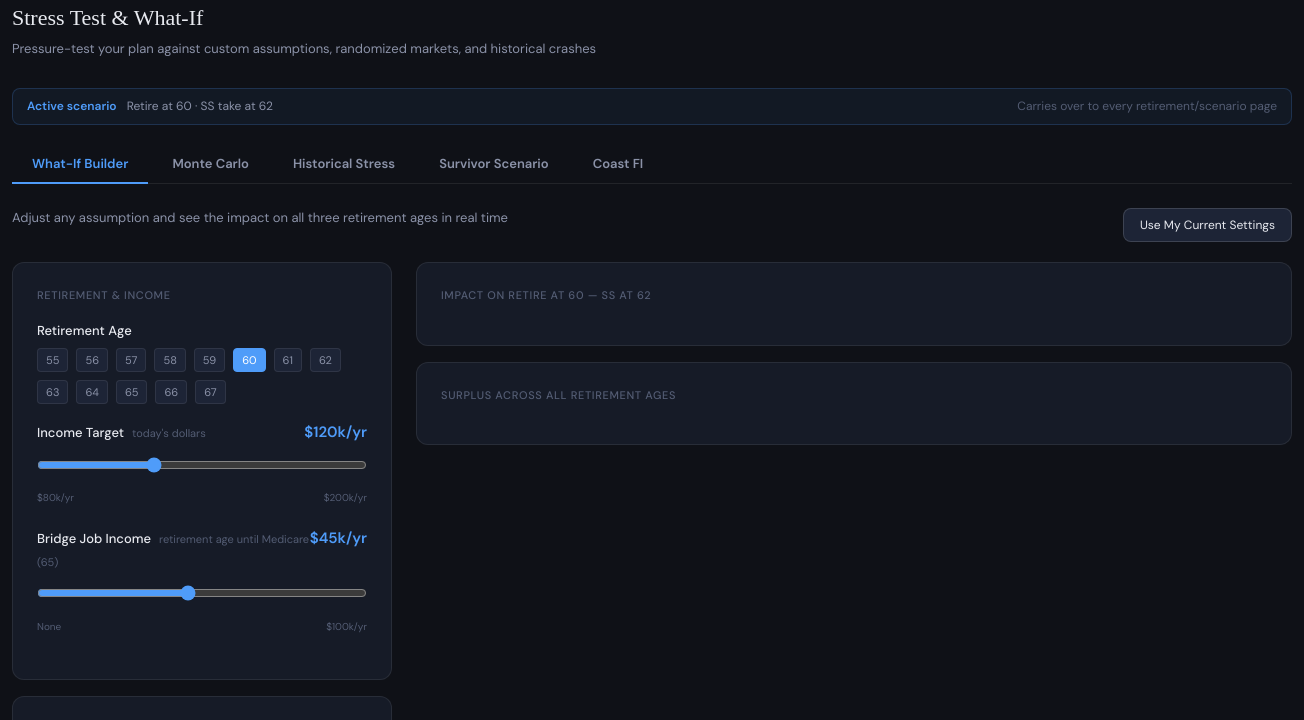
Two-Age Monte Carlo › toggling two-age mode replaces the retirement-age buttons with two age inputs, keeping SS visible
This screenshot has width=1304, height=720.
Click the button "Monte Carlo": (211, 165) [152,145,269,184]
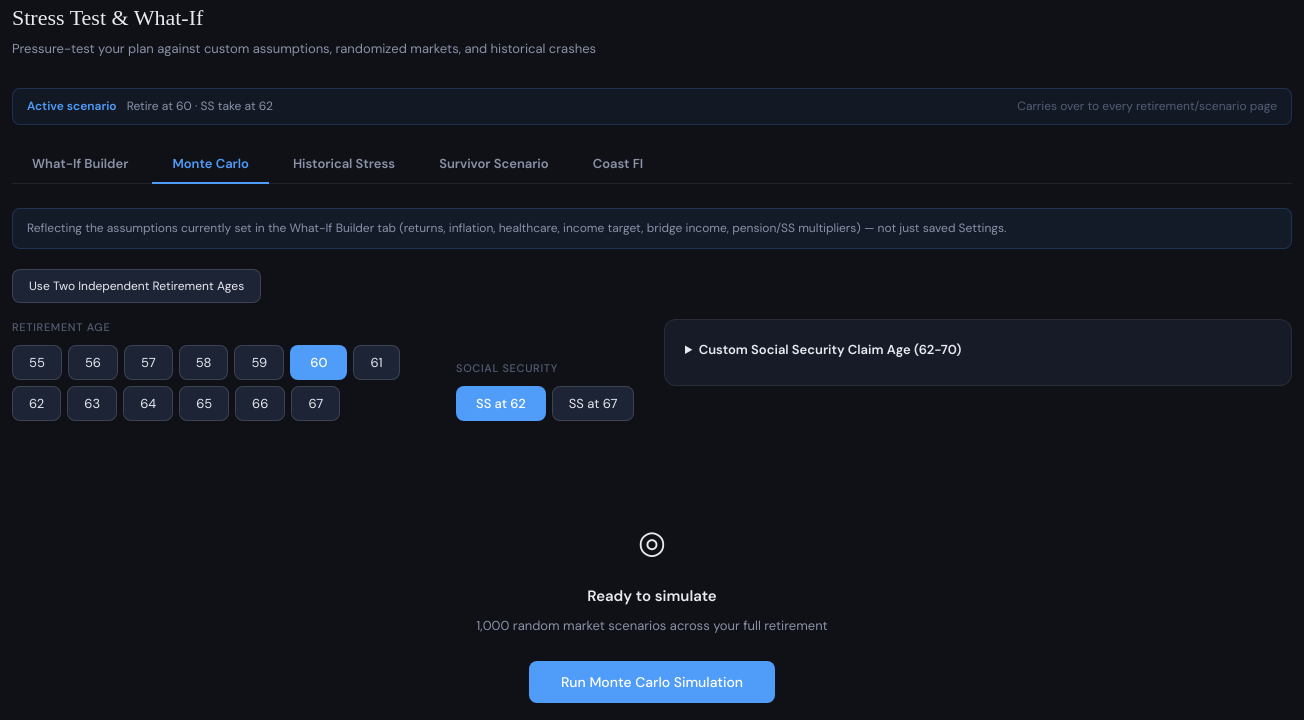
Expected: the button "Use Two Independent Retirement Ages" is shown
Click the button "Use Two Independent Retirement Ages": (137, 286) [12,269,261,303]
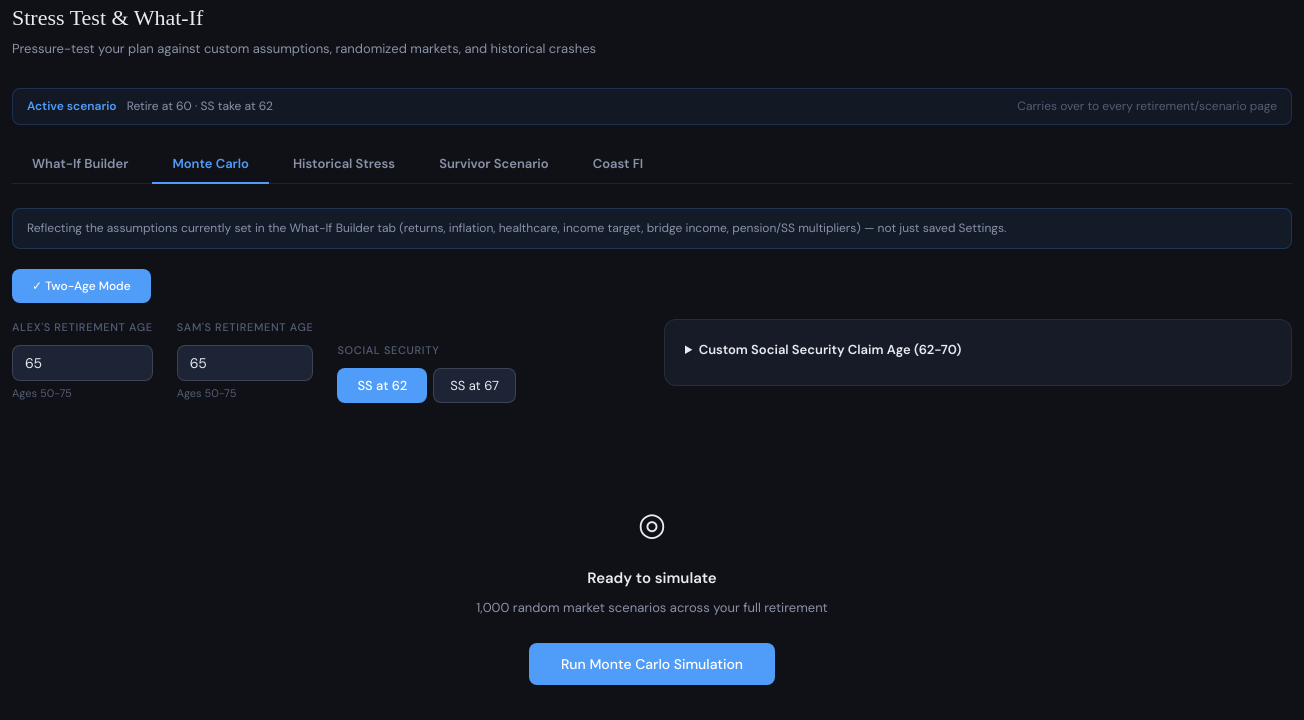
Expected: the text "Alex's Retirement Age" is shown, [12,319,153,337]
Expected: the text "Sam's Retirement Age" is shown, [177,319,313,337]
